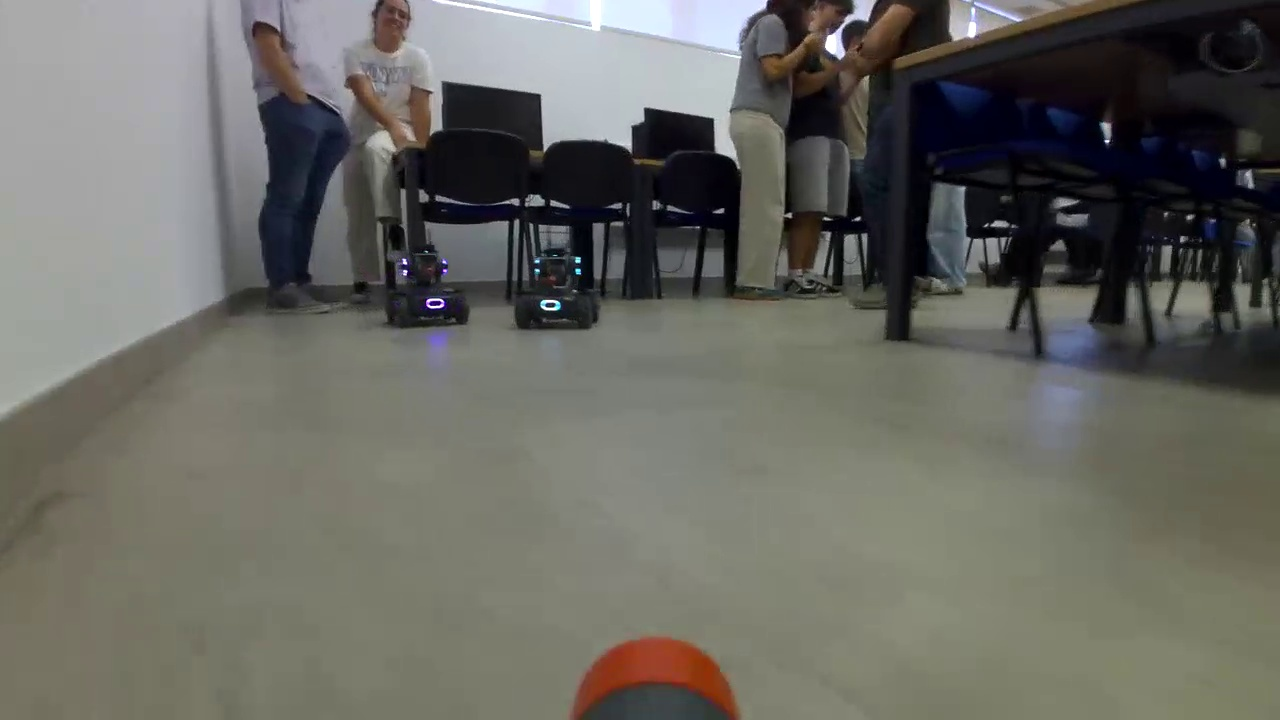robot: (508, 247, 605, 330), (385, 242, 470, 327)
